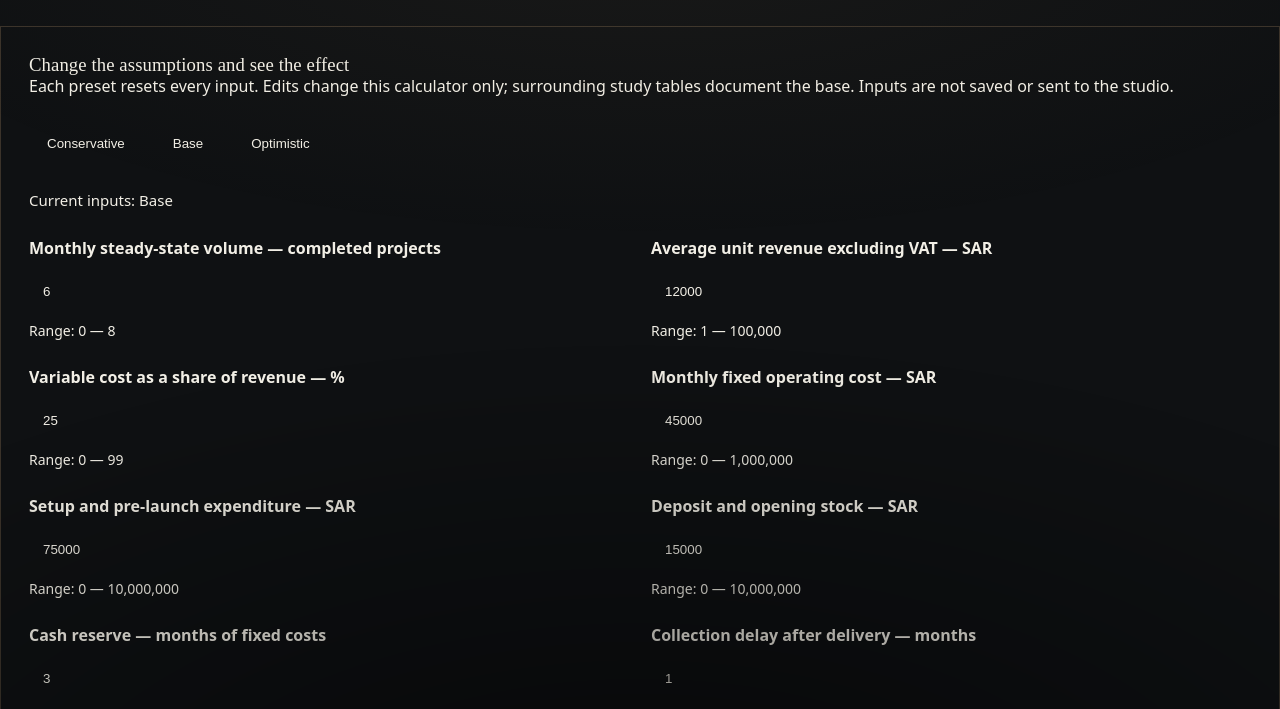
Test: Portfolio feasibility visitor journeys › lets a visitor test delayed collections, rejects empty input and restores a complete preset
Replace the text in the number field labelled "Collection delay after delivery — months" with "2" at (951, 678), box [651,654,1251,702]
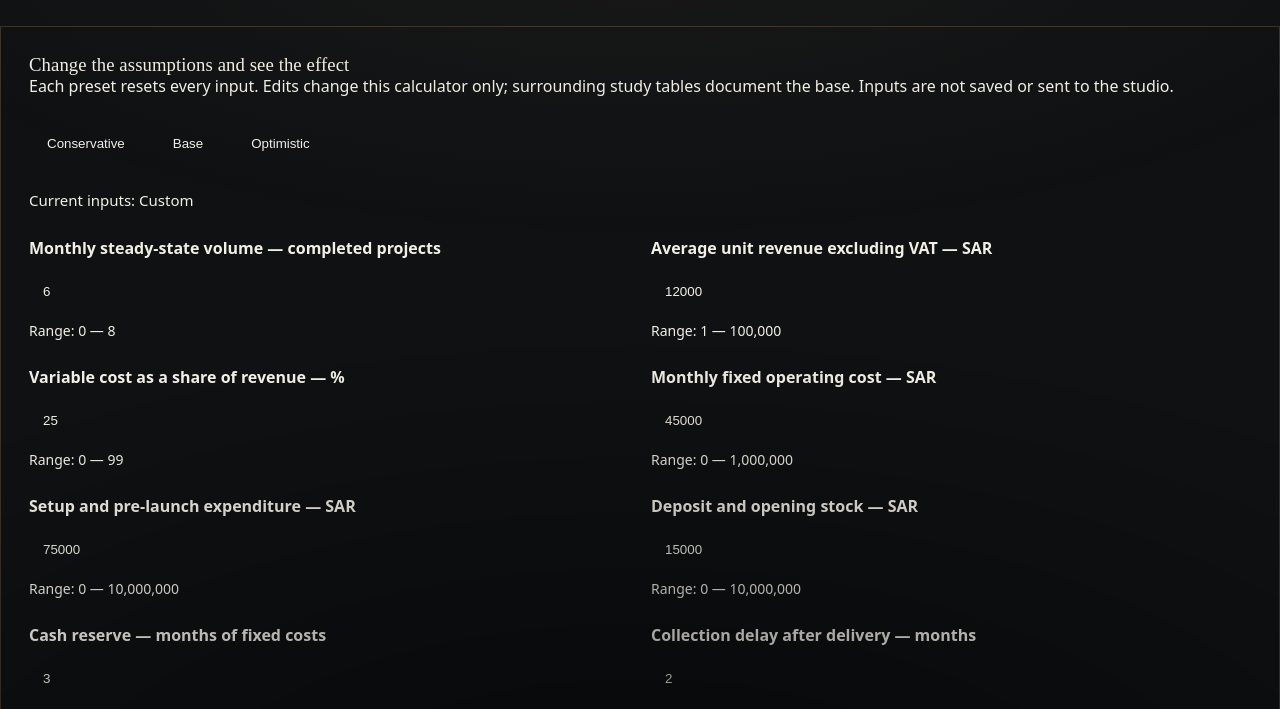
Clear the number field labelled "Average unit revenue excluding VAT — SAR" at (951, 291), box [651,267,1251,315]
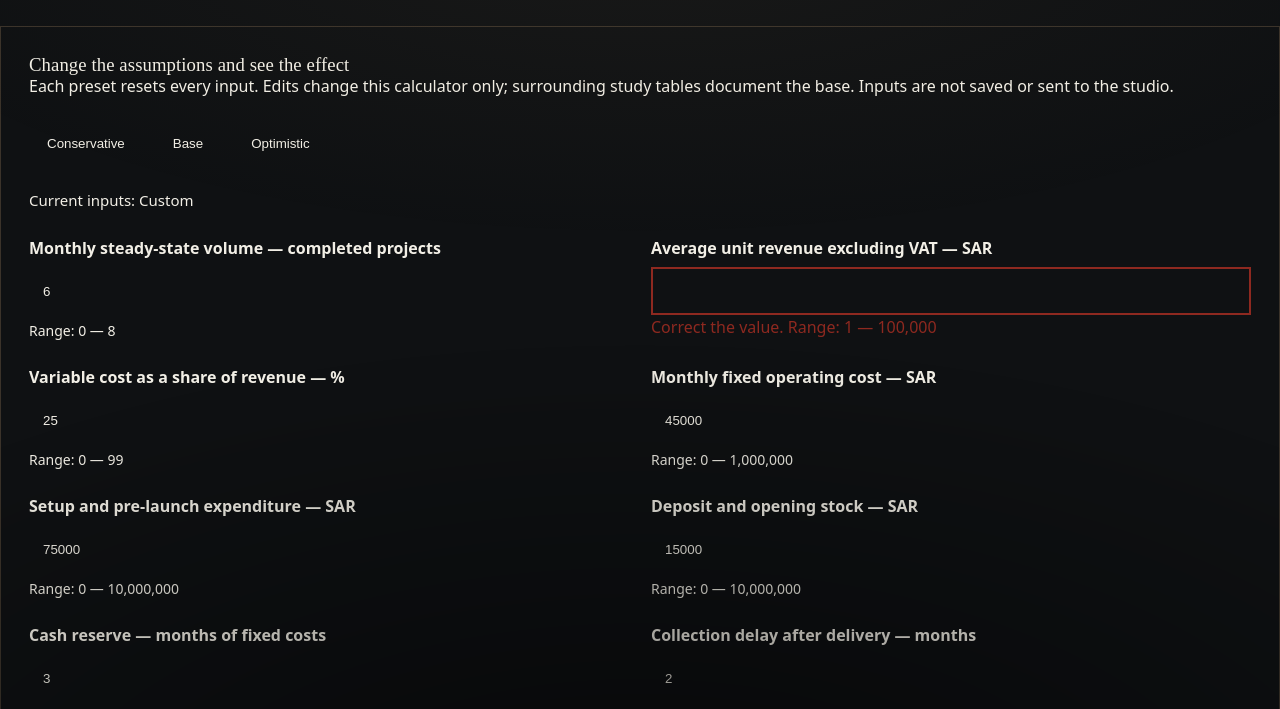
Result: the number field labelled "Average unit revenue excluding VAT — SAR" is marked as invalid at [651,267,1251,315]
Click the button "Base" at (188, 144), box [155,120,221,168]
(page scrolled)
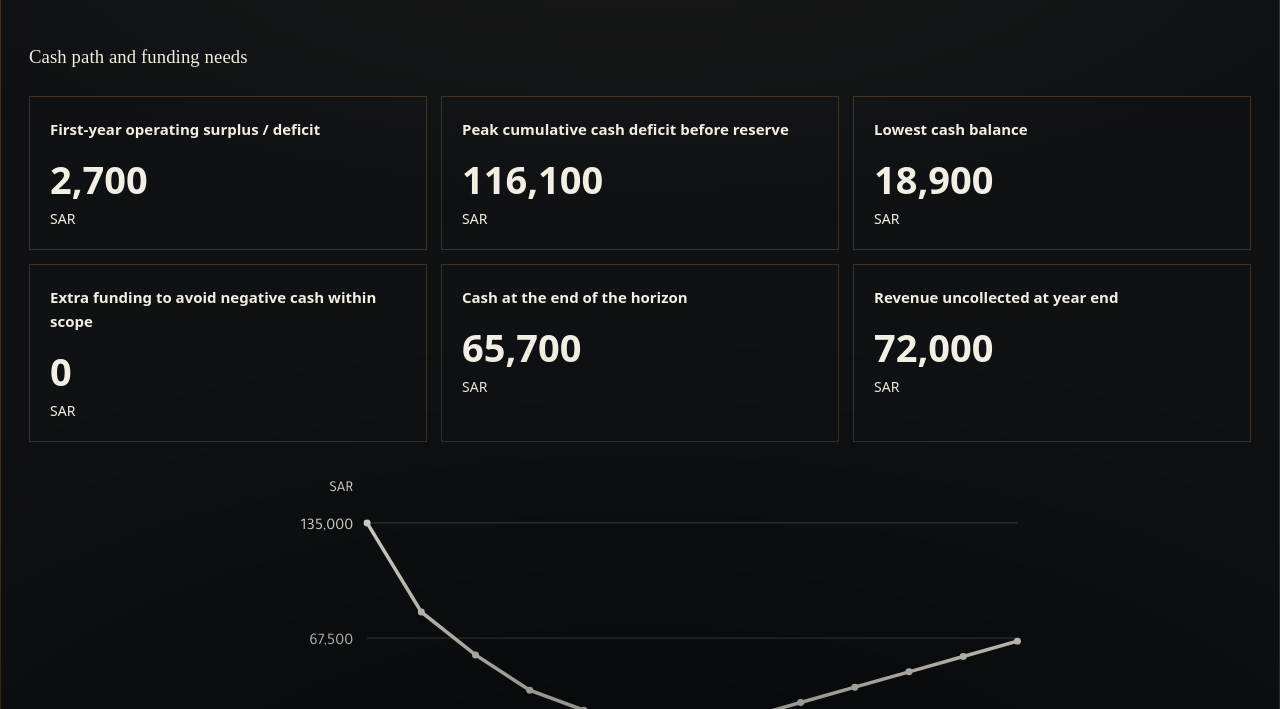
Result: the element with test id "receivables" shows "72,000" at [874,321,994,373]
